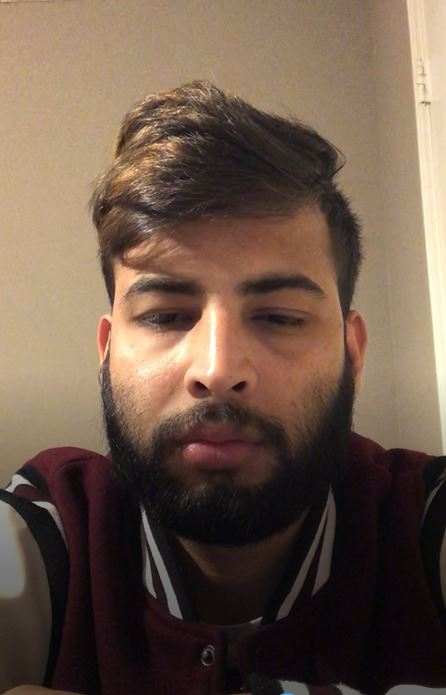Not Sleeping: (120, 287, 330, 352)
